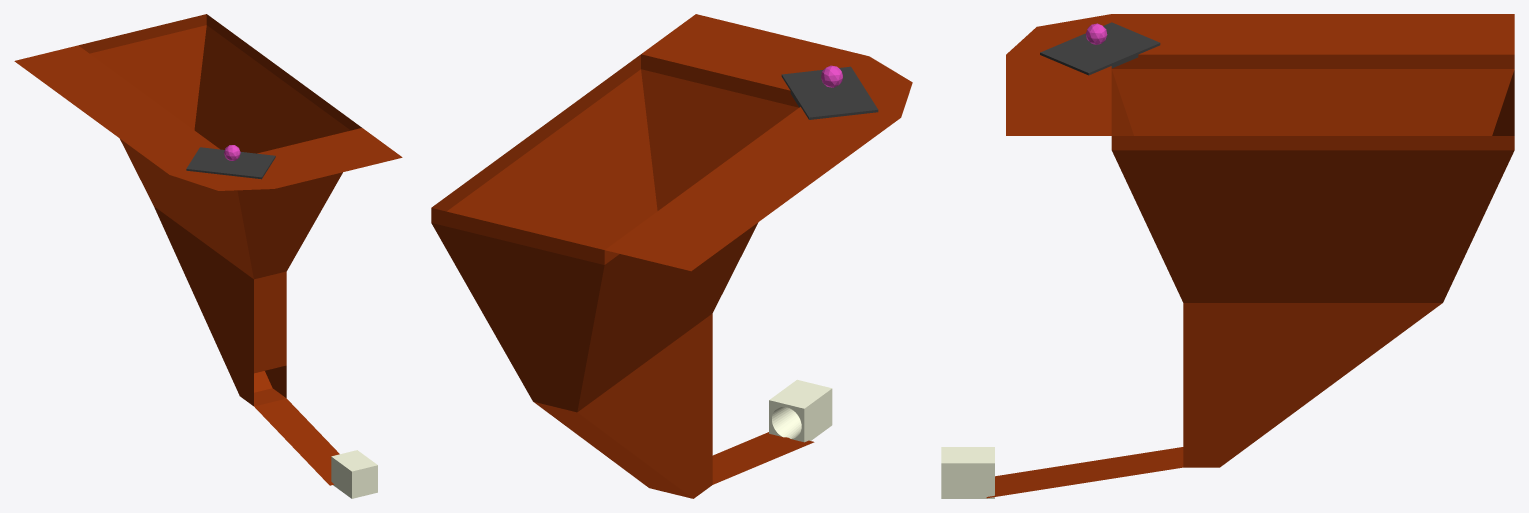
File: boilerplate_level_17.glb
The picture shows the model from 3 angles, left to right: view 1: azimuth 30°, elevation 25°; view 2: azimuth 150°, elevation 25°; view 3: azimuth 270°, elevation 25°; orthographic projection. The views are drawn at different scales.
Parts seen in each view (by area): view 1: Plane, Start, Cup; view 2: Plane, Cup, Start; view 3: Plane, Start, Cup.
Boxes of the visible parts, x1,y1,x2,y2 form: Plane: [14, 14, 402, 485]; Start: [186, 147, 275, 179]; Cup: [331, 450, 377, 498]; Plane: [431, 14, 912, 498]; Cup: [769, 379, 832, 442]; Start: [781, 66, 878, 119]; Plane: [986, 14, 1514, 498]; Start: [1040, 22, 1160, 75]; Cup: [941, 447, 994, 498].
Bounding box in the file's own units: 22.43 × 36.06 × 44.58.
